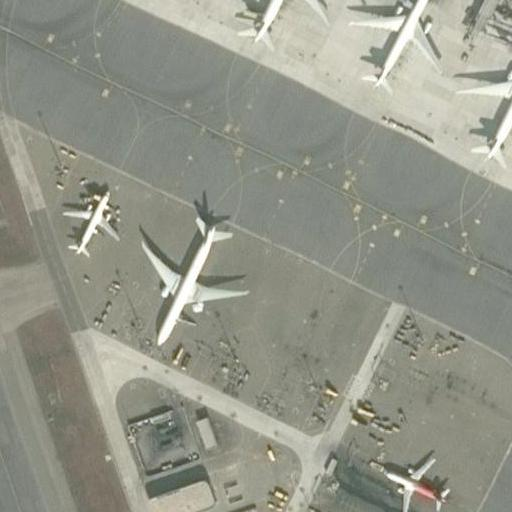Aircraft: (128, 209, 249, 352), (348, 0, 449, 95), (460, 18, 512, 169), (373, 444, 457, 512), (221, 0, 332, 49), (56, 179, 116, 264)
